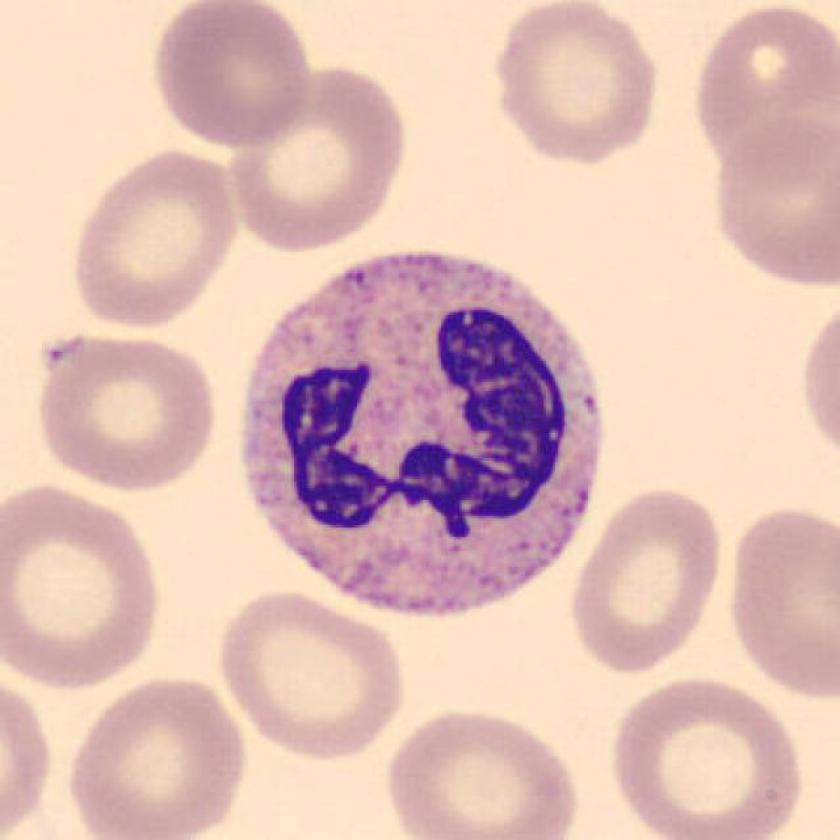neutrophil: (244, 255, 602, 617)
